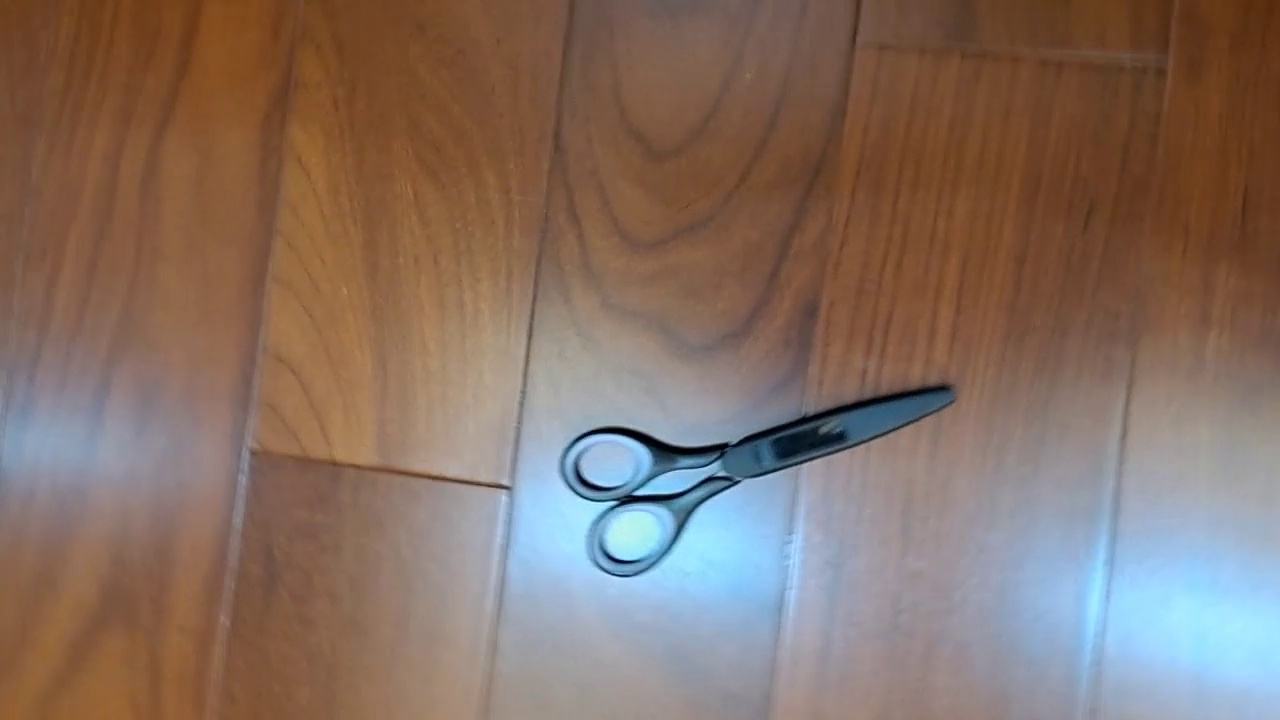scissors: (558, 381, 959, 578)
